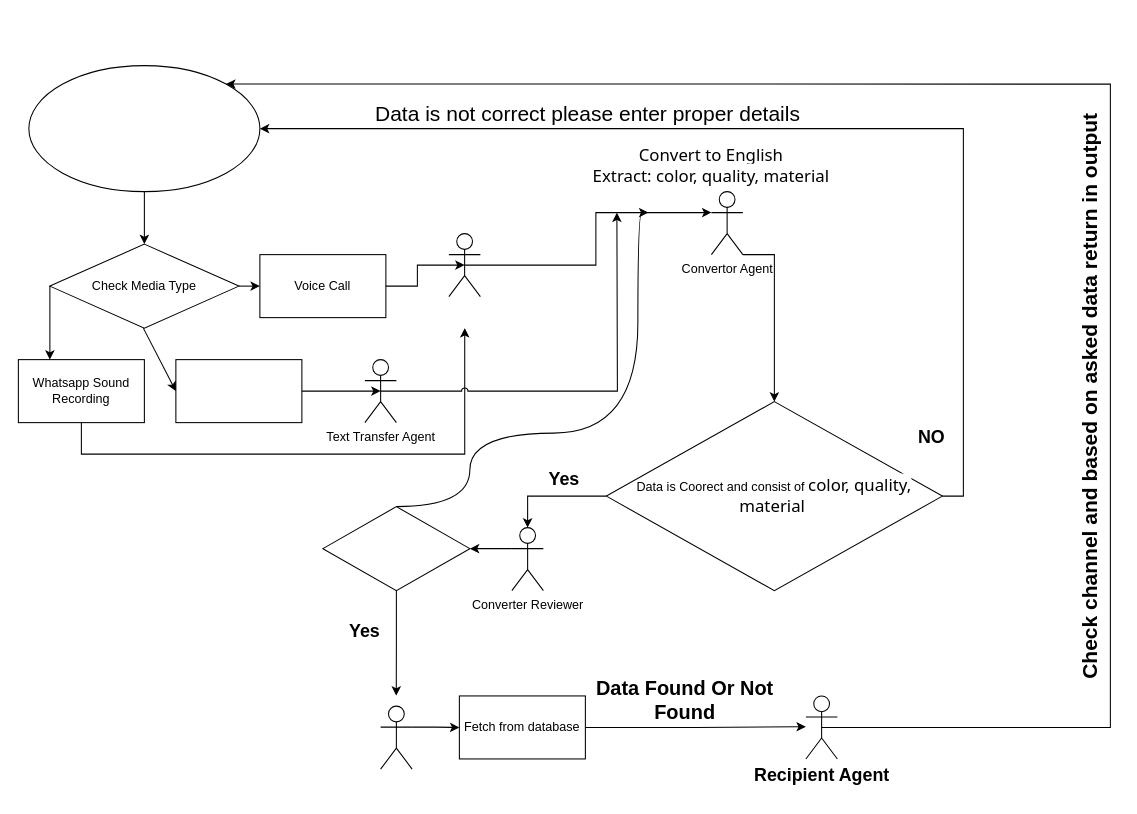
Some shapes in this 1137 by 814 pixel diagram are drawn without their labels. Each missing label, with the centre of its shape:
Data is Valid?: the point at 396,548
RateAgent: the point at 396,737
Start: Dealer initiates inquiry (WhatsApp or Phone Call): the point at 144,128
Voice Transfer Agent: the point at 464,265
Whatsapp Text: the point at 238,391
